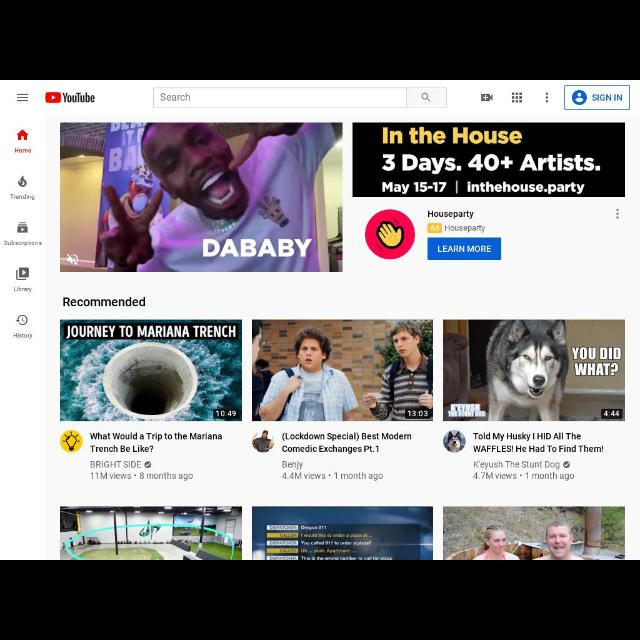button: (407, 89, 447, 108)
icon: (15, 90, 29, 106), (14, 128, 30, 142), (570, 92, 588, 104), (16, 312, 28, 326), (481, 92, 495, 104), (511, 92, 524, 104), (16, 175, 28, 187), (17, 268, 29, 280), (614, 206, 622, 224), (142, 458, 154, 469), (18, 222, 28, 234), (421, 91, 431, 102), (562, 460, 570, 470), (544, 91, 550, 103)
iframe: (352, 120, 626, 272)
image: (60, 122, 342, 272), (60, 318, 242, 422), (444, 320, 626, 420), (254, 321, 432, 421), (253, 504, 433, 558), (444, 507, 624, 559), (62, 507, 242, 559), (45, 90, 95, 106), (442, 428, 466, 454), (61, 431, 84, 455), (250, 431, 276, 452)
input: (58, 507, 240, 557), (154, 88, 448, 109)
panel: (3, 80, 57, 558)
switch: (66, 252, 80, 266)
text: (89, 431, 223, 453), (282, 431, 412, 452), (475, 432, 603, 453), (64, 296, 148, 308), (472, 460, 560, 470), (90, 458, 142, 469), (142, 472, 192, 481), (473, 470, 517, 480), (282, 470, 322, 480), (526, 474, 576, 481), (89, 471, 131, 479), (160, 91, 190, 102), (332, 474, 384, 480), (5, 239, 42, 247), (592, 93, 622, 101), (282, 461, 304, 469), (14, 285, 34, 293), (10, 193, 36, 199), (16, 146, 32, 154), (13, 333, 33, 339)
textbutton: (564, 84, 628, 110)
